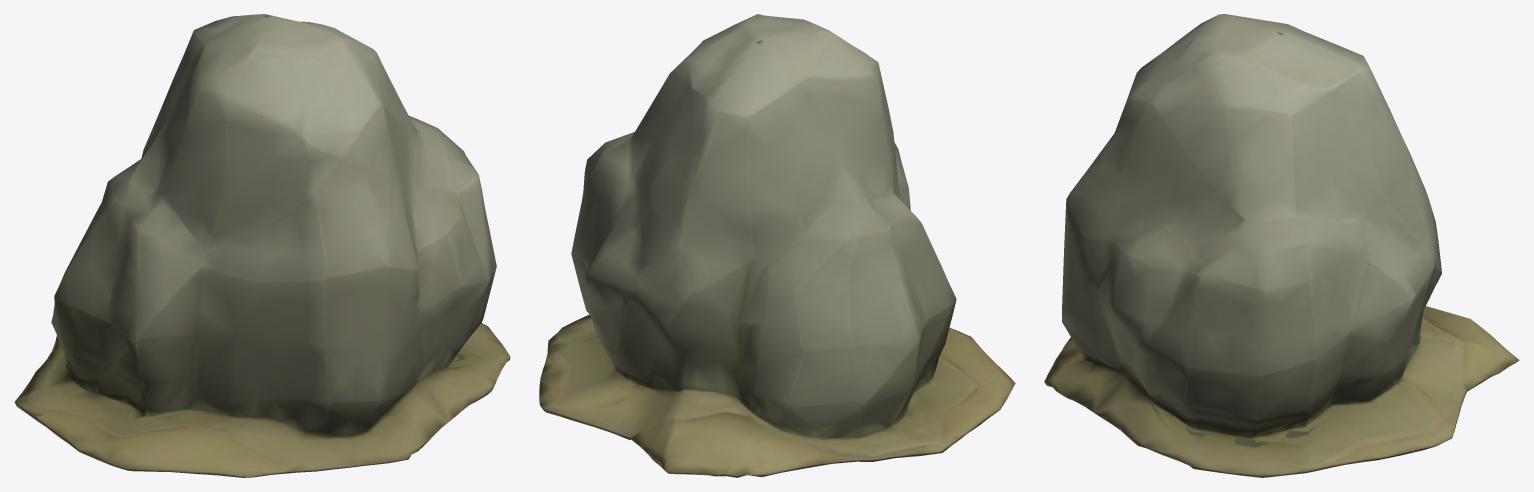
File: Stone1.glb
The picture shows the model from 3 angles, left to right: view 1: azimuth 30°, elevation 25°; view 2: azimuth 150°, elevation 25°; view 3: azimuth 270°, elevation 25°; orthographic projection. The views are drawn at different scales.
Visible parts, largest first — view 1: Mesh1.0; view 2: Mesh1.0; view 3: Mesh1.0.
Boxes of the visible parts, x1,y1,x2,y2 form: Mesh1.0: (14,14,510,477); Mesh1.0: (539,14,1015,477); Mesh1.0: (1044,14,1519,477).
Size of the model in its own units: 2 by 1.59 by 1.98.
1 material, 1 textured.
